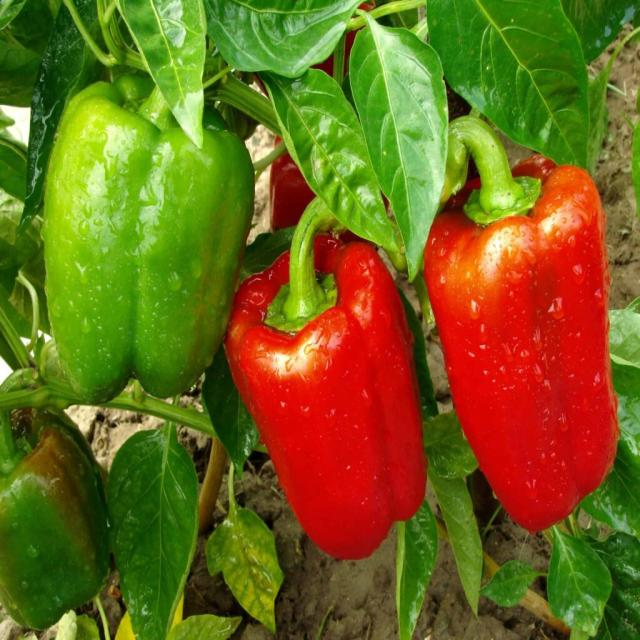Capsicum: (433, 133, 627, 541), (231, 205, 432, 561), (46, 73, 255, 401), (0, 407, 121, 632), (261, 141, 319, 222)
